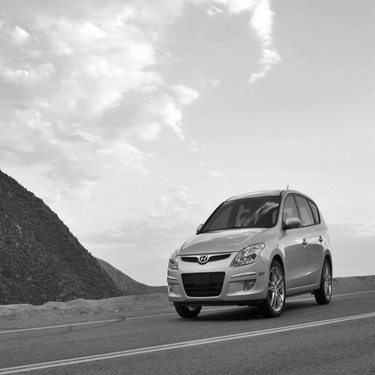car: (156, 179, 337, 322)
